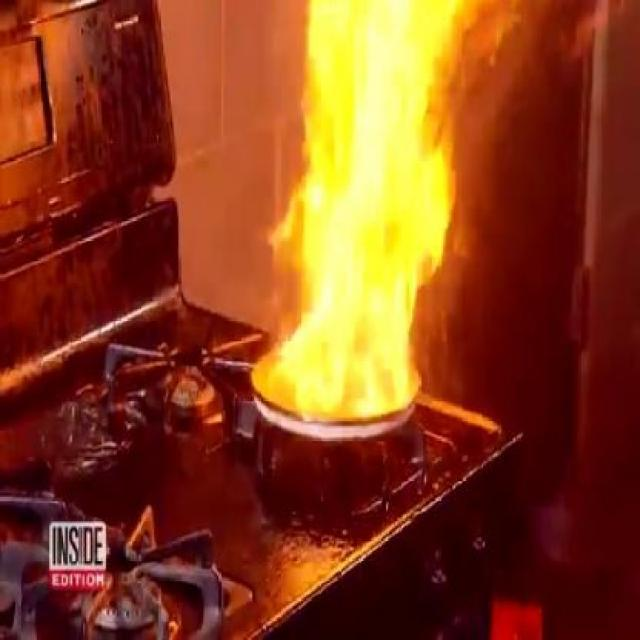fire: (274, 20, 429, 402)
